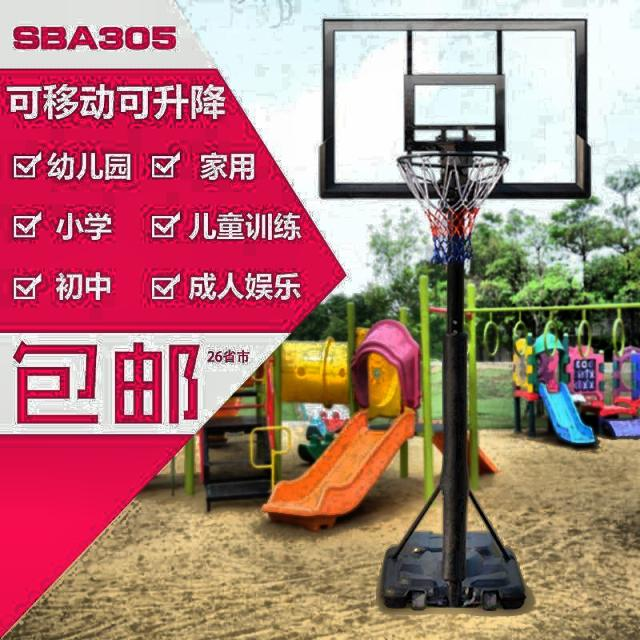rim: (395, 152, 512, 261)
